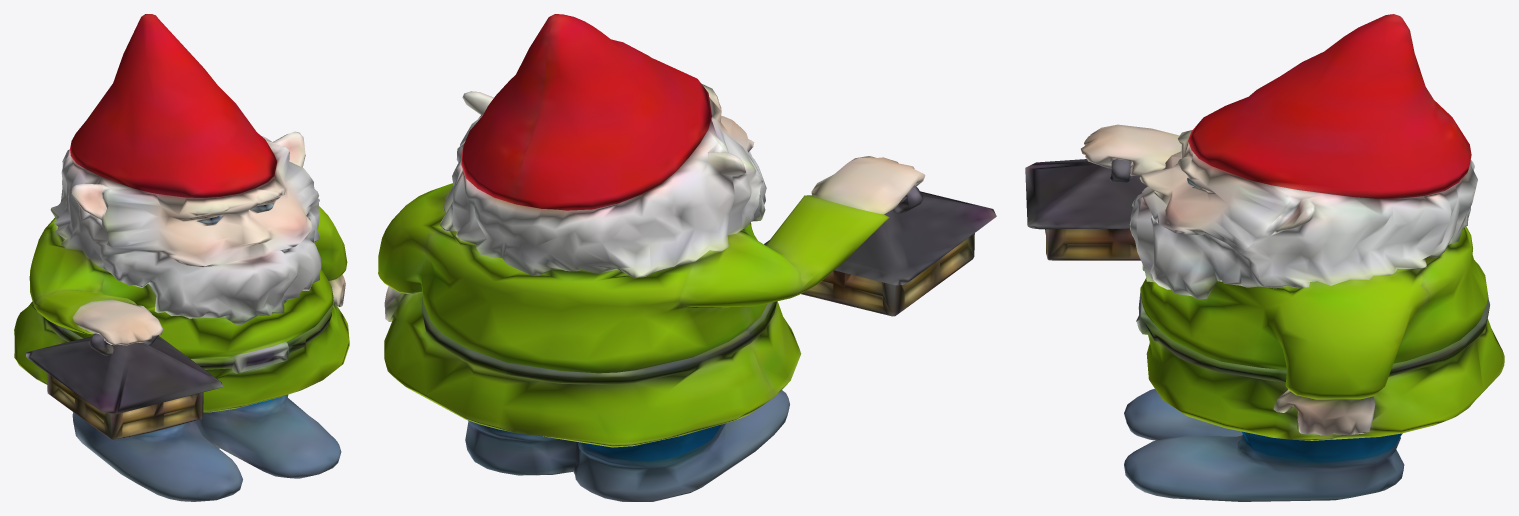
File: ph-garden-gnome.glb
3 views of the same model, side by side, from view 1: azimuth 30°, elevation 25°; view 2: azimuth 150°, elevation 25°; view 3: azimuth 270°, elevation 25° (orthographic). The views are drawn at different scales.
Visible parts, largest first — view 1: garden_gnome; view 2: garden_gnome; view 3: garden_gnome.
Boxes of the visible parts, bbox=[...] form: garden_gnome: bbox=[14, 14, 349, 501]; garden_gnome: bbox=[378, 14, 996, 501]; garden_gnome: bbox=[1025, 14, 1504, 501].
Size of the model in its own units: 0.9983 by 0.9987 by 0.9999.
Materials: 1 (1 with a texture image).
